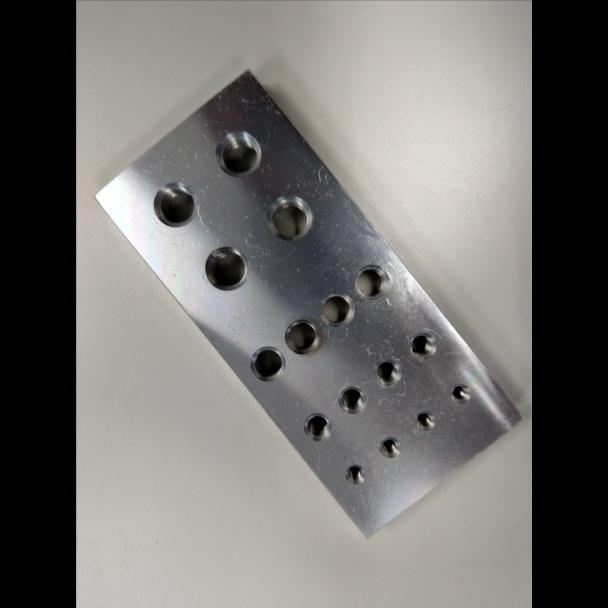hole: (213, 129, 263, 177), (265, 193, 313, 242), (151, 180, 198, 228), (204, 245, 250, 291), (249, 345, 286, 382), (283, 318, 320, 355), (352, 264, 390, 300), (319, 292, 355, 328), (371, 357, 402, 387), (337, 385, 367, 414), (302, 412, 331, 441), (407, 332, 437, 359), (449, 383, 471, 406), (378, 436, 401, 458), (343, 463, 366, 484), (414, 410, 435, 431)
